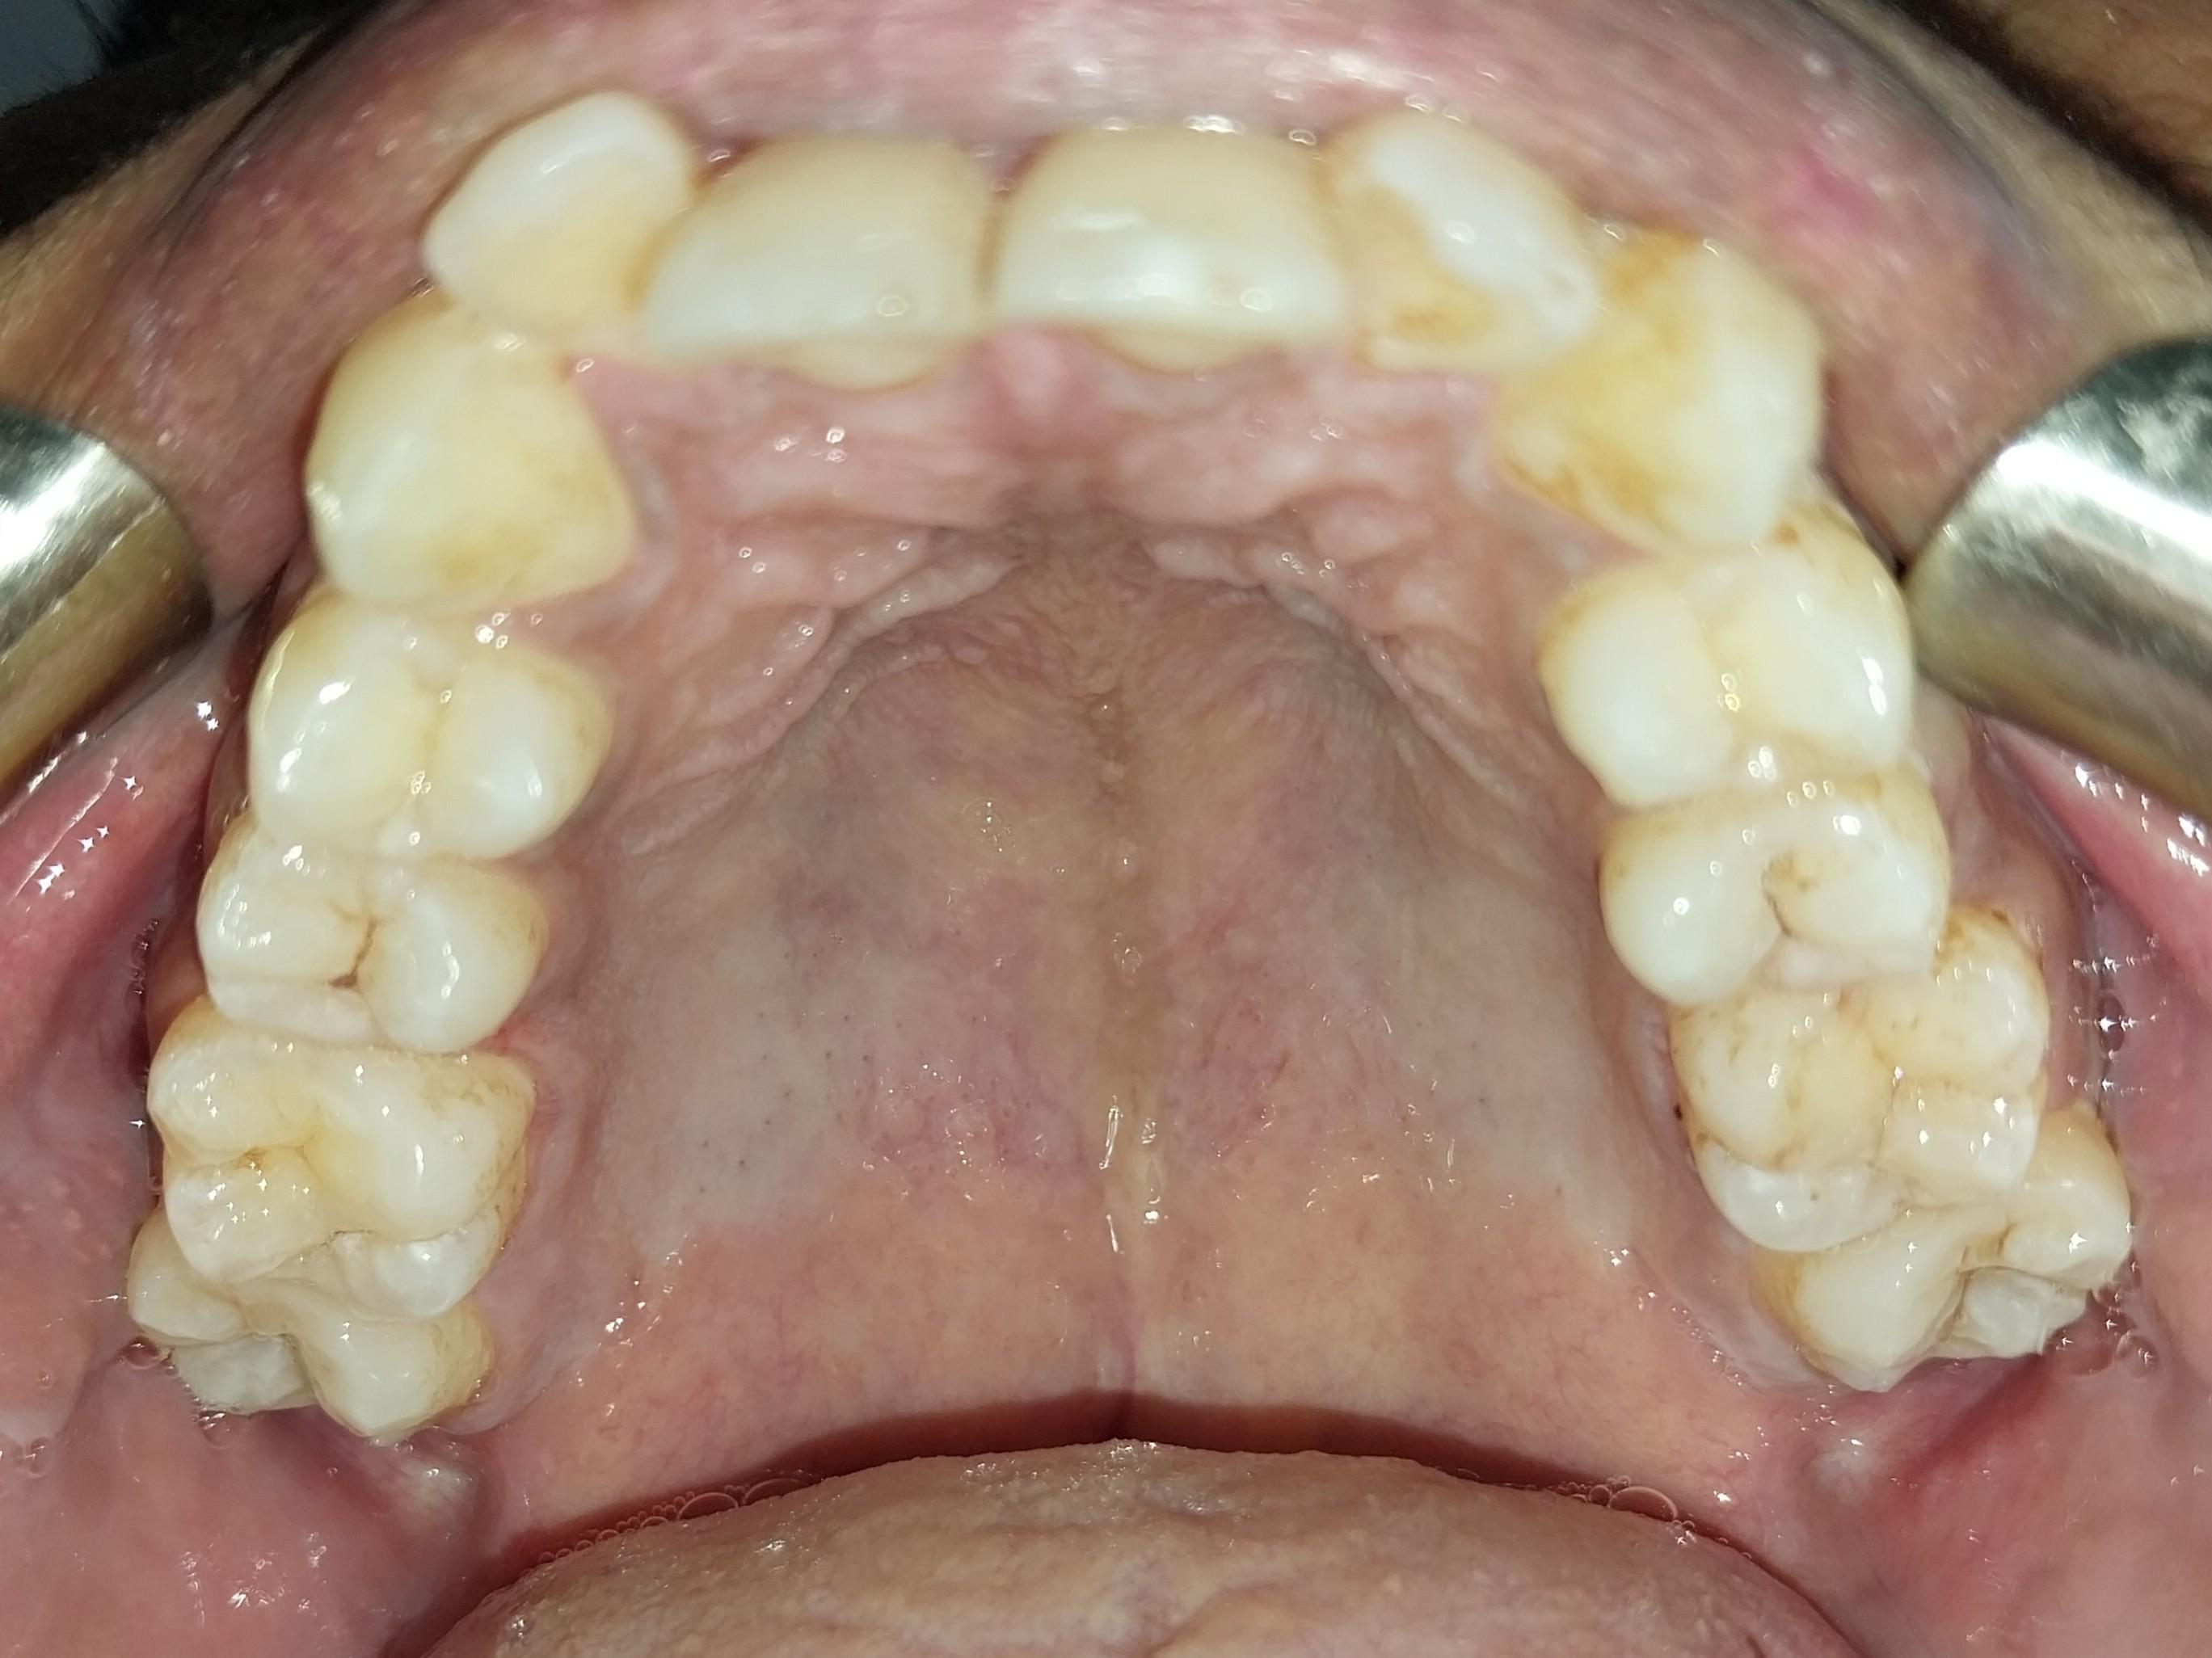D: (201, 823, 541, 1060)
